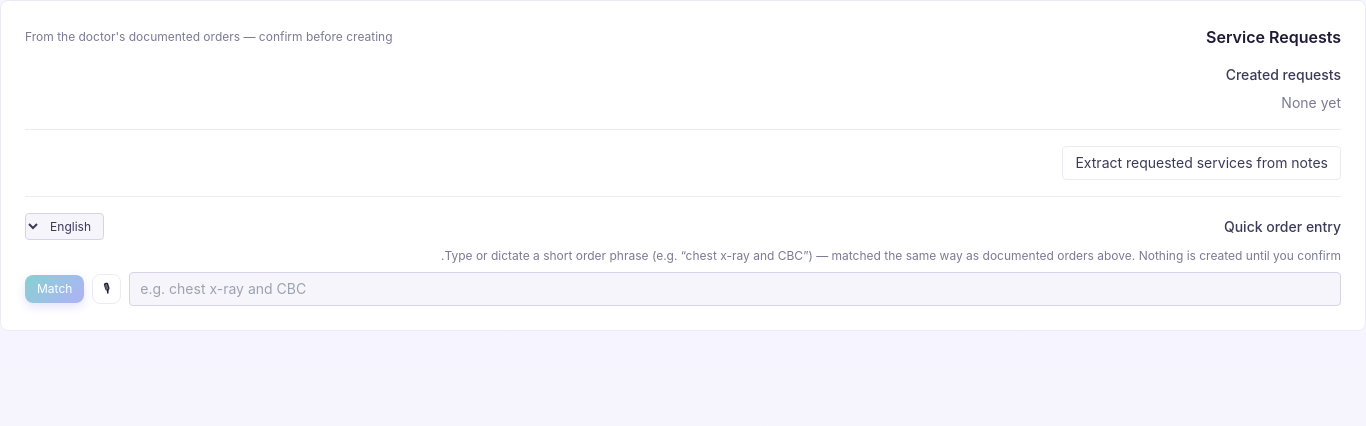
it: ServiceRequestPanel — quick order entry › matches typed text against the catalog and renders a confirm/dismiss card
This screenshot has width=1366, height=426.
Type "chest x-ray" into the field with placeholder "e.g. chest x-ray and CBC" at [735, 289], box top-left (129, 272), bottom-right (1341, 306)
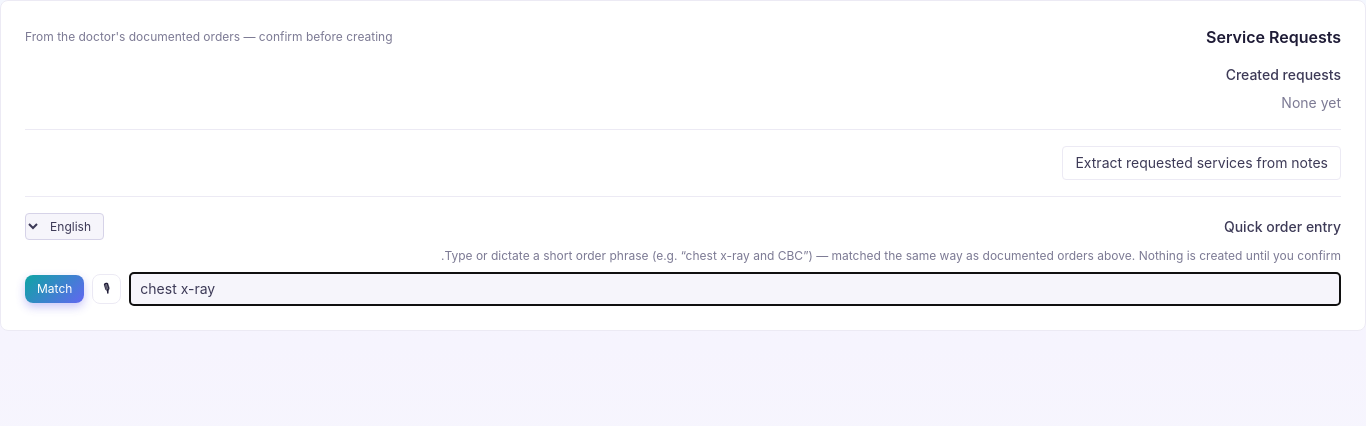
Click the button "Match" at [55, 289], box top-left (25, 275), bottom-right (84, 303)
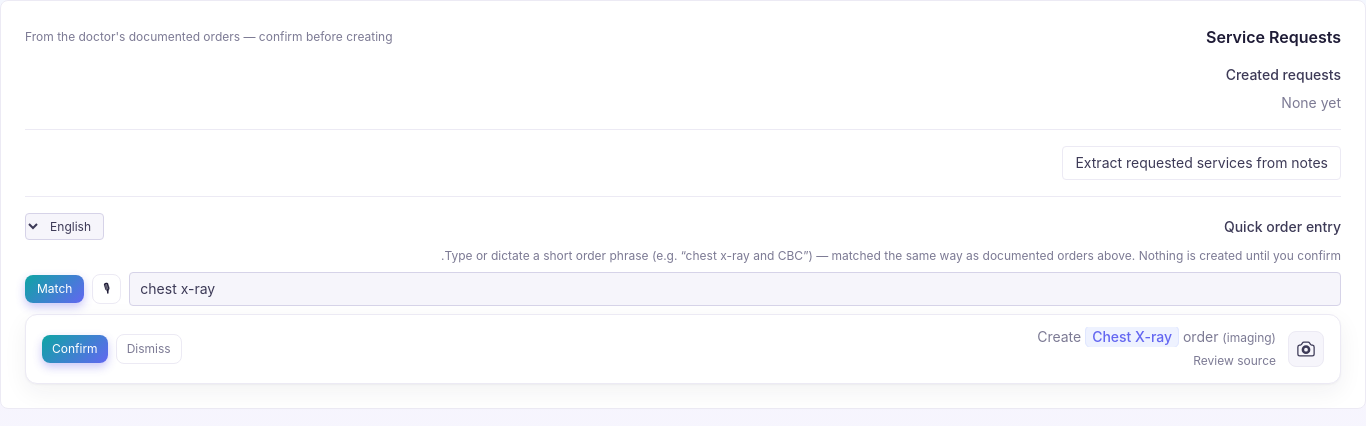
expect the text "Chest X-ray" is shown: met, box top-left (1085, 327), bottom-right (1179, 347)
